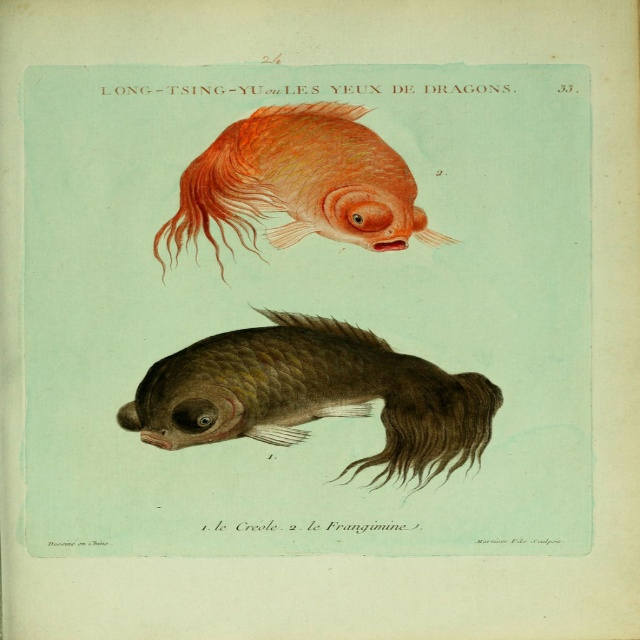Goldfish: (114, 306, 503, 501), (127, 96, 441, 288)
